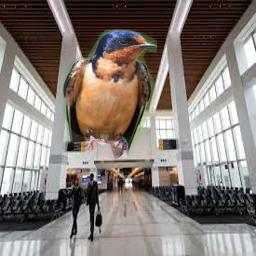Swallow: (62, 29, 157, 159)
